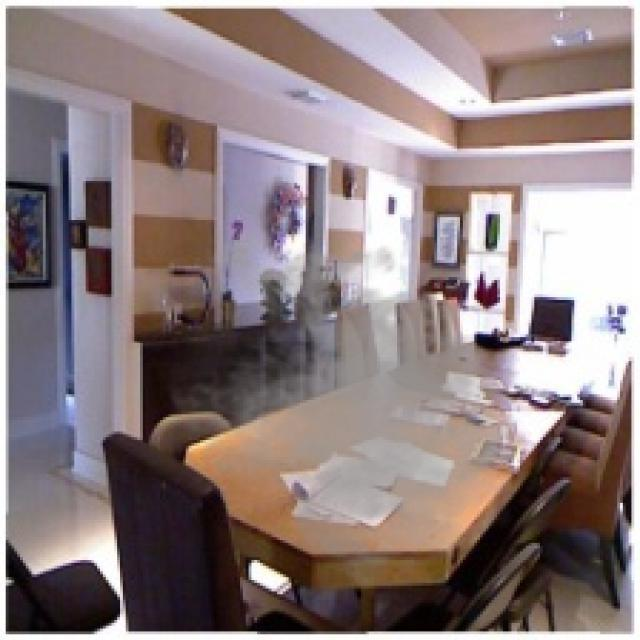Smoke: (145, 223, 540, 592)
